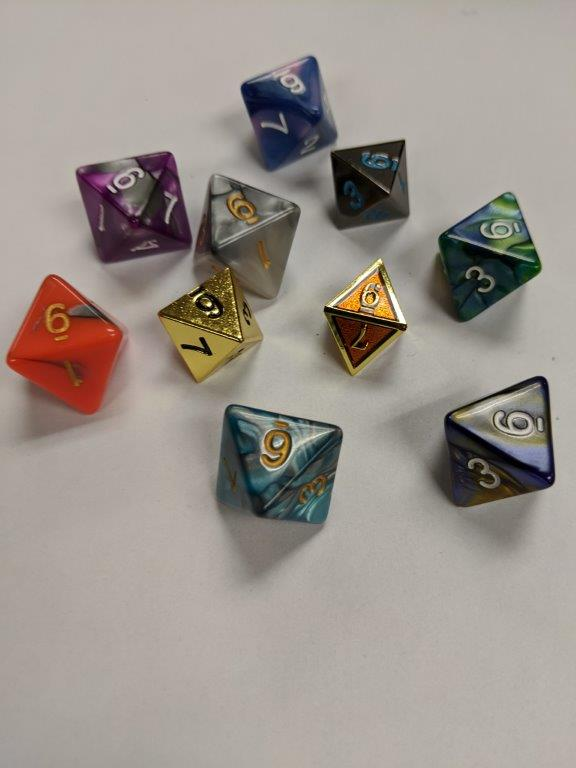d8-6: (6, 270, 130, 418), (211, 404, 345, 532), (443, 376, 556, 513), (438, 189, 548, 325), (190, 172, 304, 301), (74, 149, 192, 264), (155, 267, 263, 382), (242, 56, 338, 172), (323, 257, 408, 374), (332, 140, 410, 227)
